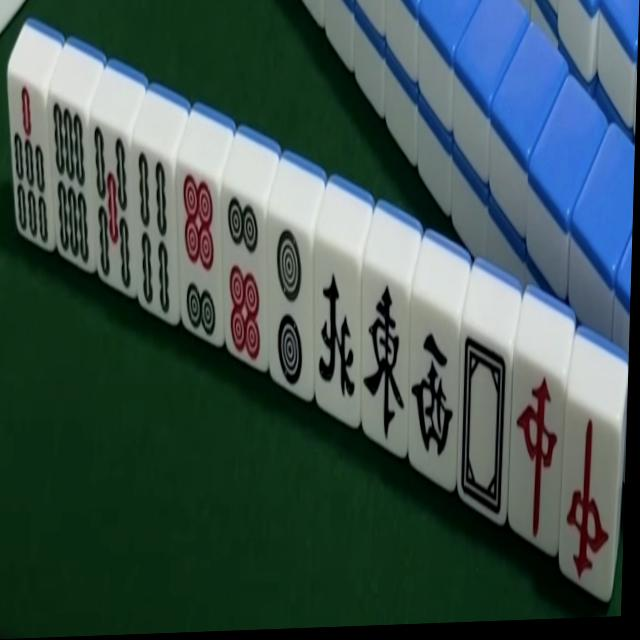bai: (457, 334, 511, 516)
east: (361, 269, 410, 450)
north: (310, 247, 360, 420)
s4: (135, 143, 176, 311)
s5: (83, 125, 135, 293)
s6: (43, 98, 92, 273)
s7: (11, 76, 51, 249)
t2: (270, 227, 309, 391)
t6: (224, 185, 269, 368), (178, 172, 224, 343)
west: (410, 313, 460, 477)
zhong: (560, 391, 626, 609), (506, 355, 566, 561)
